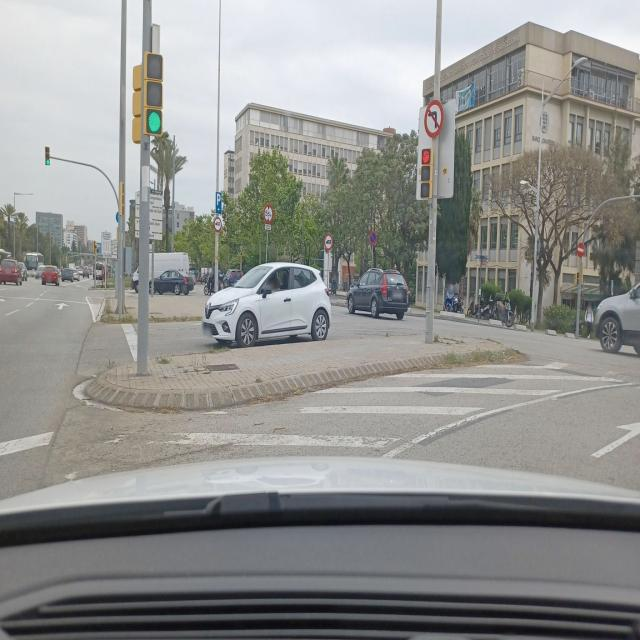bike: (491, 292, 515, 327), (466, 296, 489, 320), (443, 289, 464, 313)
car: (202, 260, 332, 348), (593, 276, 640, 362), (347, 268, 409, 319), (131, 253, 190, 278), (149, 270, 195, 295), (0, 260, 22, 286), (41, 264, 60, 286), (225, 268, 241, 287), (17, 260, 29, 282), (93, 264, 104, 281), (61, 268, 74, 282), (72, 268, 82, 280)
